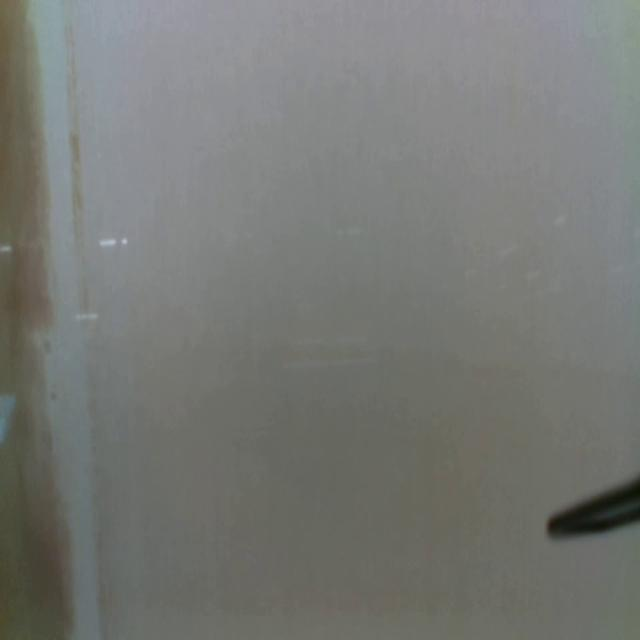color bleeding: (0, 0, 111, 640)
